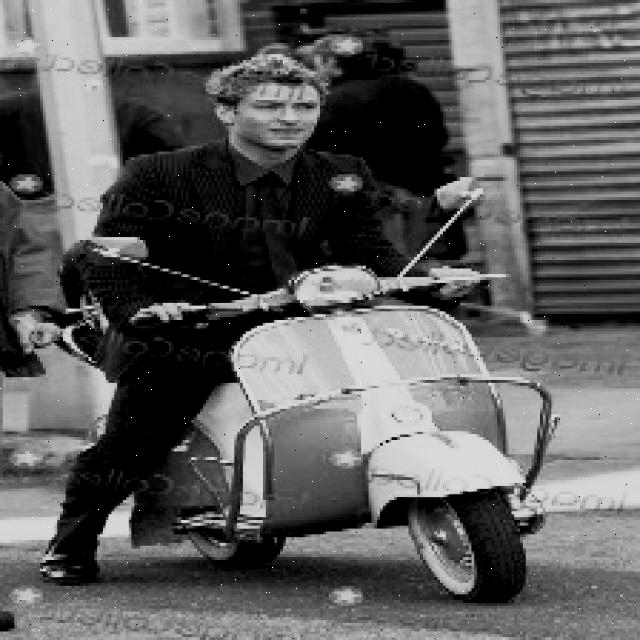Bike: (194, 278, 560, 619)
